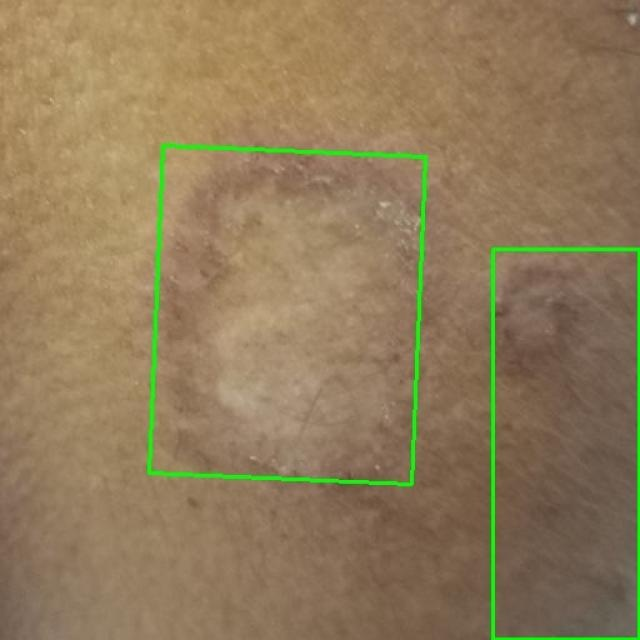Tinea Corporis: (150, 146, 426, 484), (492, 249, 639, 639)
